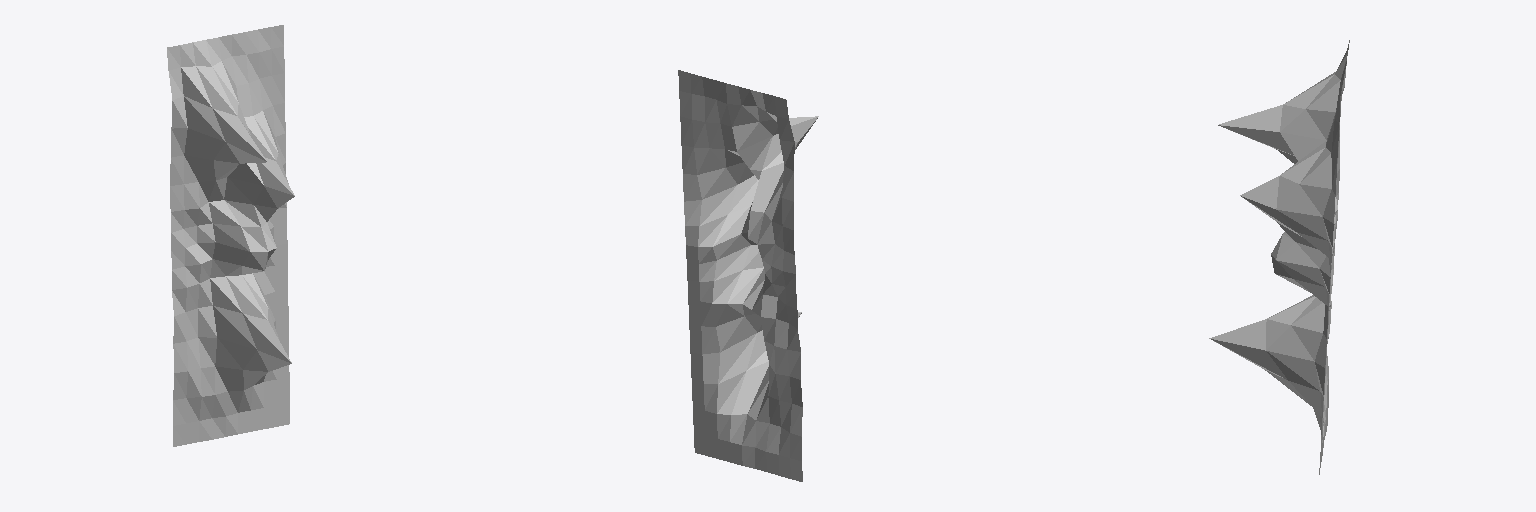
File: mountainRevert.obj
The picture shows the model from 3 angles: view 1: azimuth 30°, elevation 25°; view 2: azimuth 150°, elevation 25°; view 3: azimuth 270°, elevation 25°; orthographic projection.
Parts seen in each view (by area): view 1: Sahne_Plane; view 2: Sahne_Plane; view 3: Sahne_Plane.
Part boxes in pixels (x1,y1,x2,y2): Sahne_Plane: (167,25,294,446); Sahne_Plane: (678,70,818,481); Sahne_Plane: (1209,40,1349,474).
Bounding box in the file's own units: 3.14 × 9.96 × 3.27.